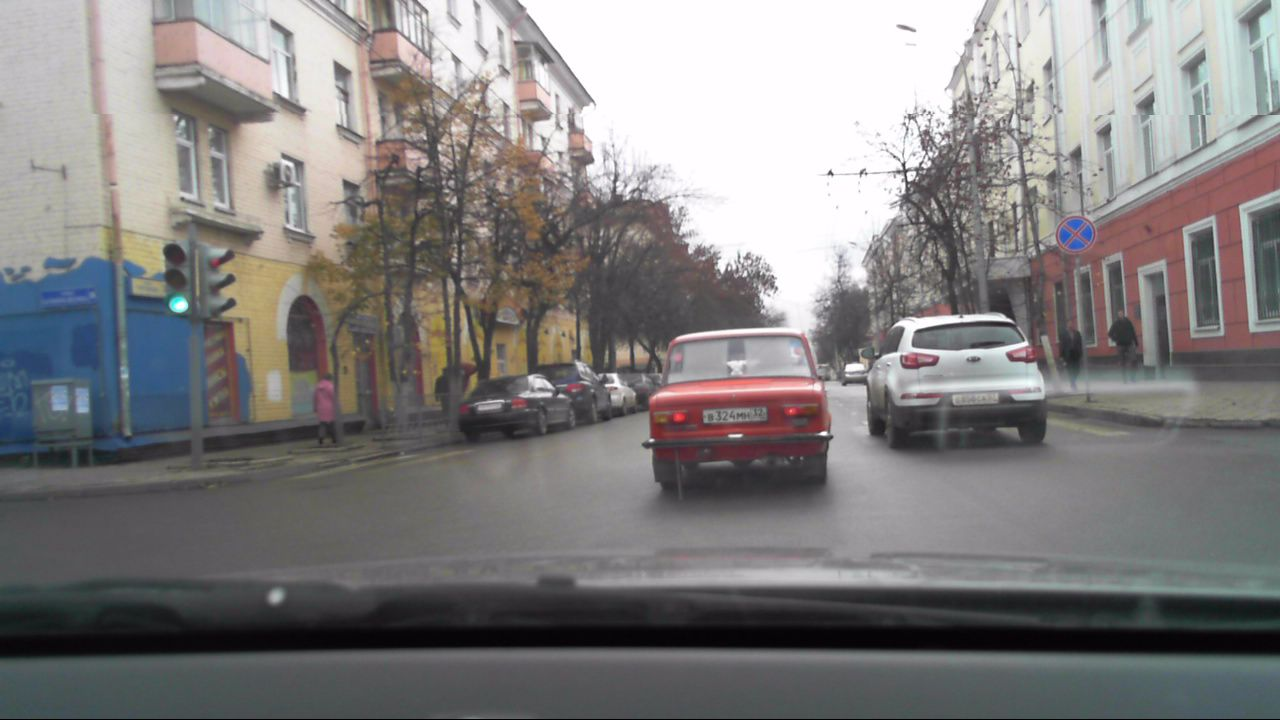No Parking: (1055, 214, 1100, 256)
